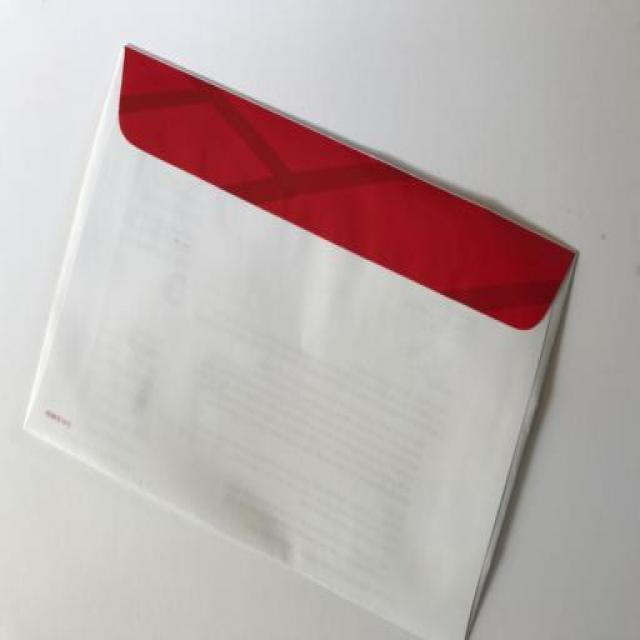paper: (60, 47, 564, 640)
